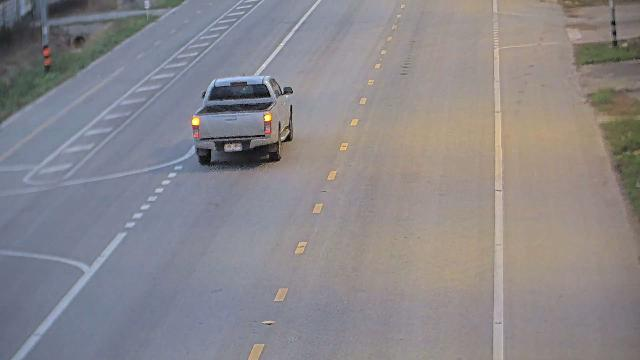pickup-truck: (190, 74, 294, 166)
